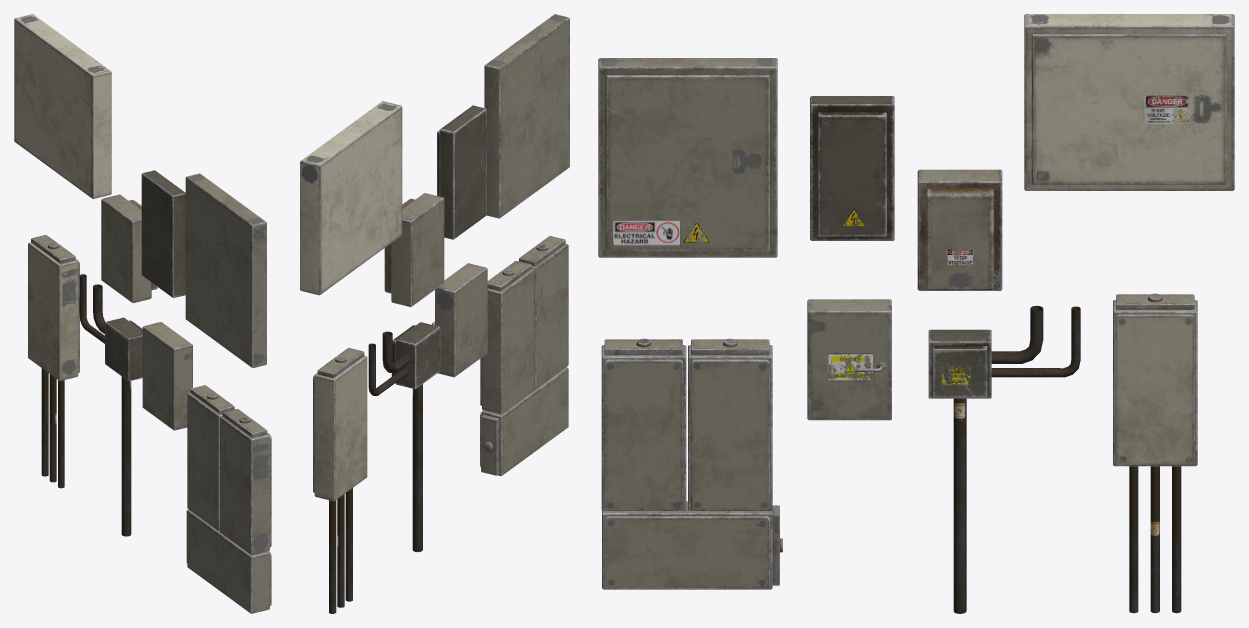
The model's file is electrical_boxes.glb.
3 renders of one model, left to right at view 1: azimuth 30°, elevation 25°; view 2: azimuth 150°, elevation 25°; view 3: azimuth 270°, elevation 25°, orthographic. The views are drawn at different scales.
Visible parts, largest first — view 1: modular-box-01, modular-box-04, modular-box-group-04.000, modular-box-group-01.000, modular-box-03, modular-box-group-03.000, modular-box-05, modular-box-02, modular-box-group-02.000, modular-box-06, modular-tube-a01, modular-tube-b02 (+6 smaller); view 2: modular-box-01, modular-box-04, modular-box-group-04.000, modular-box-group-02.000, modular-box-03, modular-box-02, modular-box-05, modular-box-group-03.000, modular-box-group-01.000, modular-box-06, modular-tube-a01, modular-box-group-03.001 (+7 smaller); view 3: modular-box-01, modular-box-04, modular-box-03, modular-box-group-03.003, modular-box-group-04.003, modular-box-group-01.003, modular-box-group-02.003, modular-box-02, modular-box-05, modular-box-06, modular-tube-a01, modular-box-group-01.000 (+10 smaller).
Part boxes in pixels (left/top/right/bottom): modular-box-01: left=14, top=14, right=111, bottom=198; modular-box-04: left=185, top=173, right=266, bottom=368; modular-box-group-04.000: left=28, top=242, right=78, bottom=380; modular-box-group-01.000: left=220, top=416, right=269, bottom=555; modular-box-03: left=141, top=170, right=185, bottom=298; modular-box-group-03.000: left=187, top=510, right=269, bottom=613; modular-box-05: left=142, top=322, right=192, bottom=430; modular-box-02: left=101, top=194, right=157, bottom=303; modular-box-group-02.000: left=187, top=392, right=222, bottom=531; modular-box-06: left=105, top=317, right=142, bottom=381; modular-tube-a01: left=121, top=376, right=131, bottom=536; modular-tube-b02: left=49, top=374, right=56, bottom=482; modular-box-01: left=300, top=101, right=402, bottom=295; modular-box-04: left=484, top=14, right=569, bottom=218; modular-box-group-04.000: left=314, top=355, right=367, bottom=501; modular-box-group-02.000: left=482, top=269, right=534, bottom=414; modular-box-03: left=437, top=105, right=486, bottom=239; modular-box-02: left=384, top=193, right=444, bottom=307; modular-box-05: left=435, top=263, right=487, bottom=377; modular-box-group-03.000: left=482, top=367, right=568, bottom=476; modular-box-group-01.000: left=531, top=244, right=568, bottom=389; modular-box-06: left=391, top=322, right=440, bottom=389; modular-tube-a01: left=412, top=384, right=422, bottom=552; modular-box-group-03.001: left=481, top=414, right=499, bottom=475; modular-box-01: left=1024, top=14, right=1234, bottom=190; modular-box-04: left=598, top=58, right=777, bottom=257; modular-box-03: left=810, top=96, right=894, bottom=240; modular-box-group-03.003: left=604, top=516, right=770, bottom=588; modular-box-group-04.003: left=1115, top=314, right=1194, bottom=465; modular-box-group-01.003: left=604, top=359, right=683, bottom=510; modular-box-group-02.003: left=691, top=359, right=769, bottom=510; modular-box-02: left=917, top=169, right=1002, bottom=290; modular-box-05: left=807, top=299, right=891, bottom=420; modular-box-06: left=928, top=329, right=991, bottom=398; modular-tube-a01: left=953, top=398, right=966, bottom=613; modular-box-group-01.000: left=601, top=345, right=686, bottom=511.
Bounding box in the file's own units: 0.15 × 2.16 × 2.1.
Materials: 1 (1 with a texture image).
